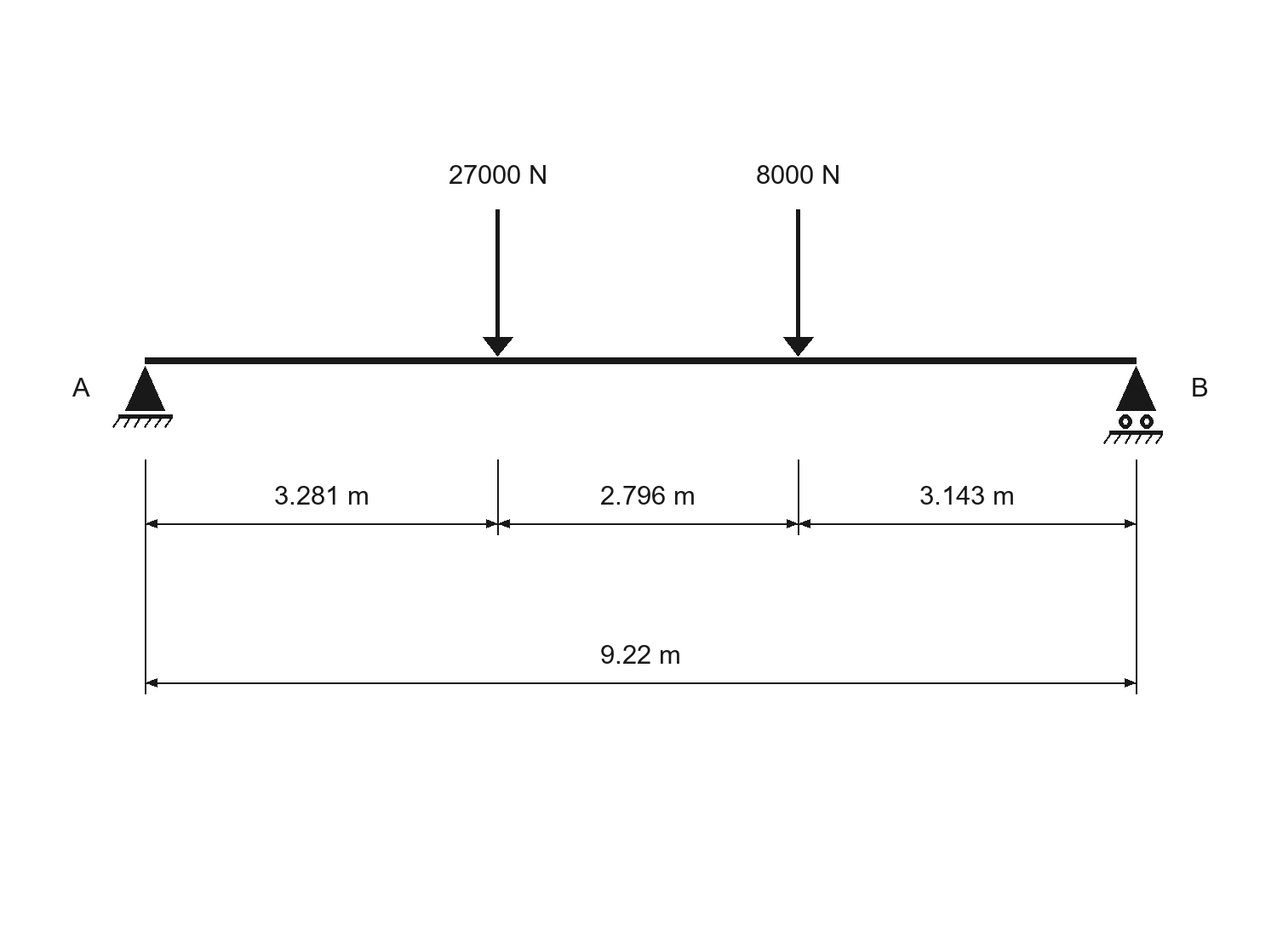pin_support: (112, 366, 173, 428)
point_load: (783, 209, 814, 357), (483, 209, 513, 357)
roller_support: (1103, 366, 1163, 444)
